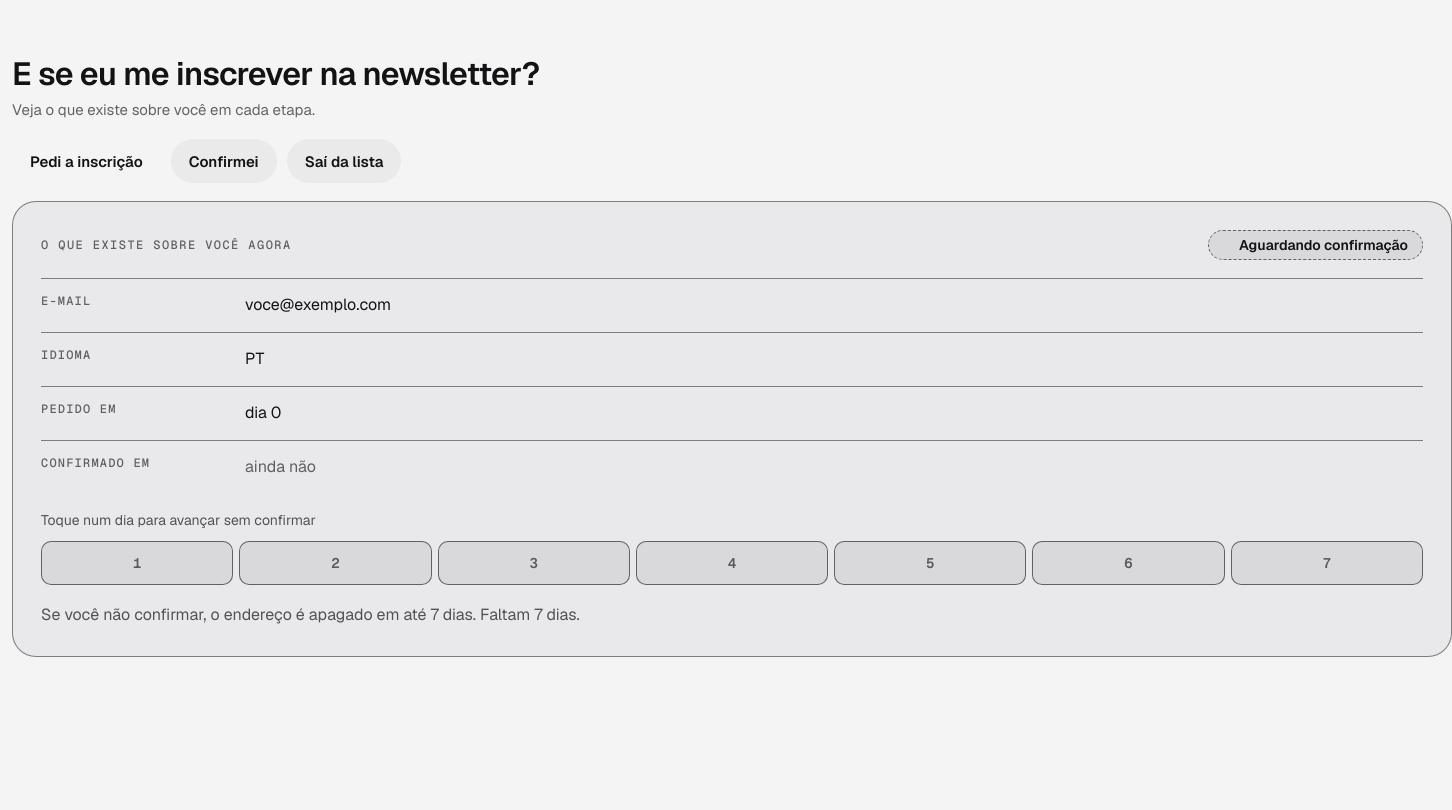
it: PrivacySimulation › lights the days up to the one tapped and strikes the panel through on day 7
Click the button "3" at (534, 563), box [438,541,630,585]
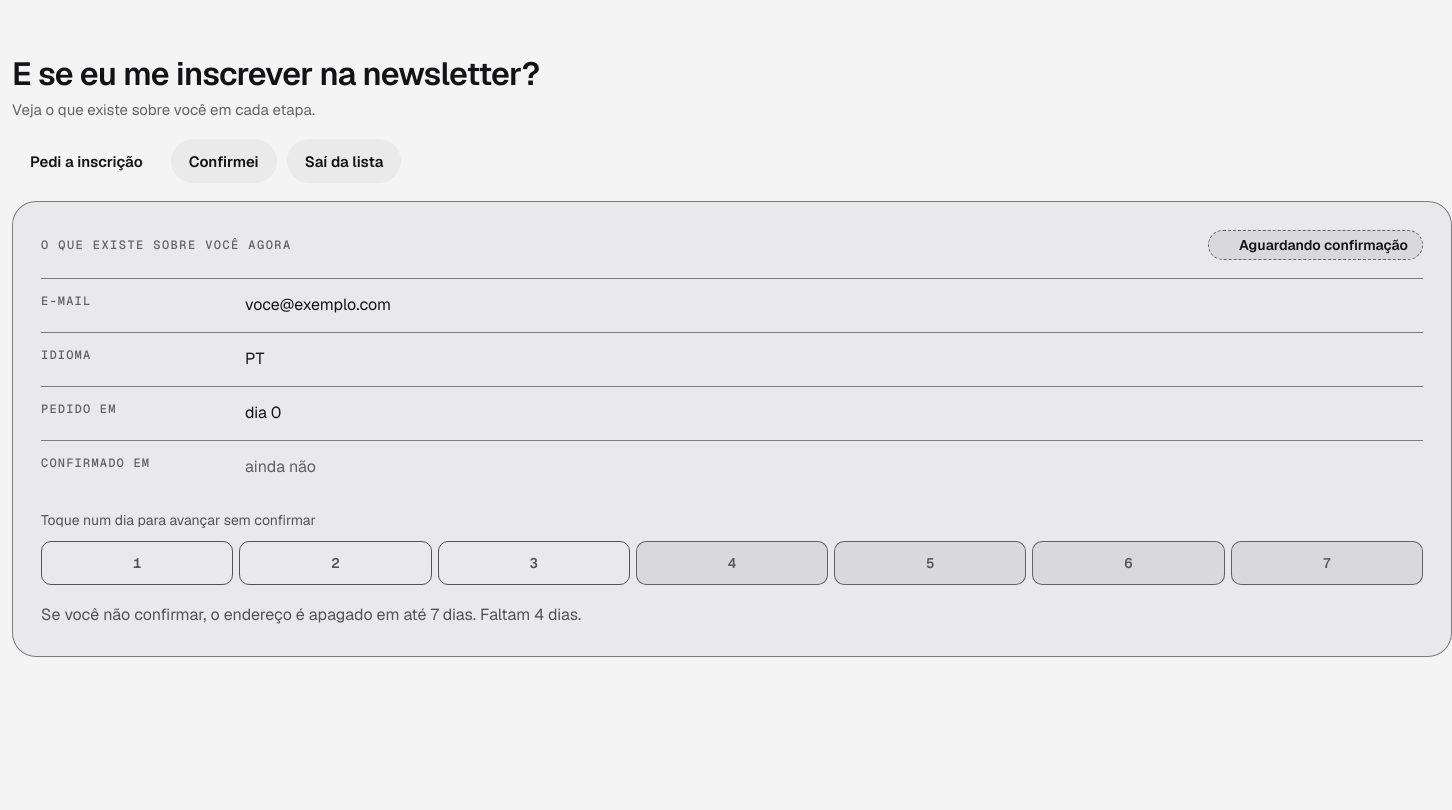
Check: the text "E-mail" is shown, box [41,293,91,309]
Check: the text "Faltam 4 dias." is shown, box [41,604,581,625]
Click the button "7" at (1327, 563), box [1231,541,1423,585]
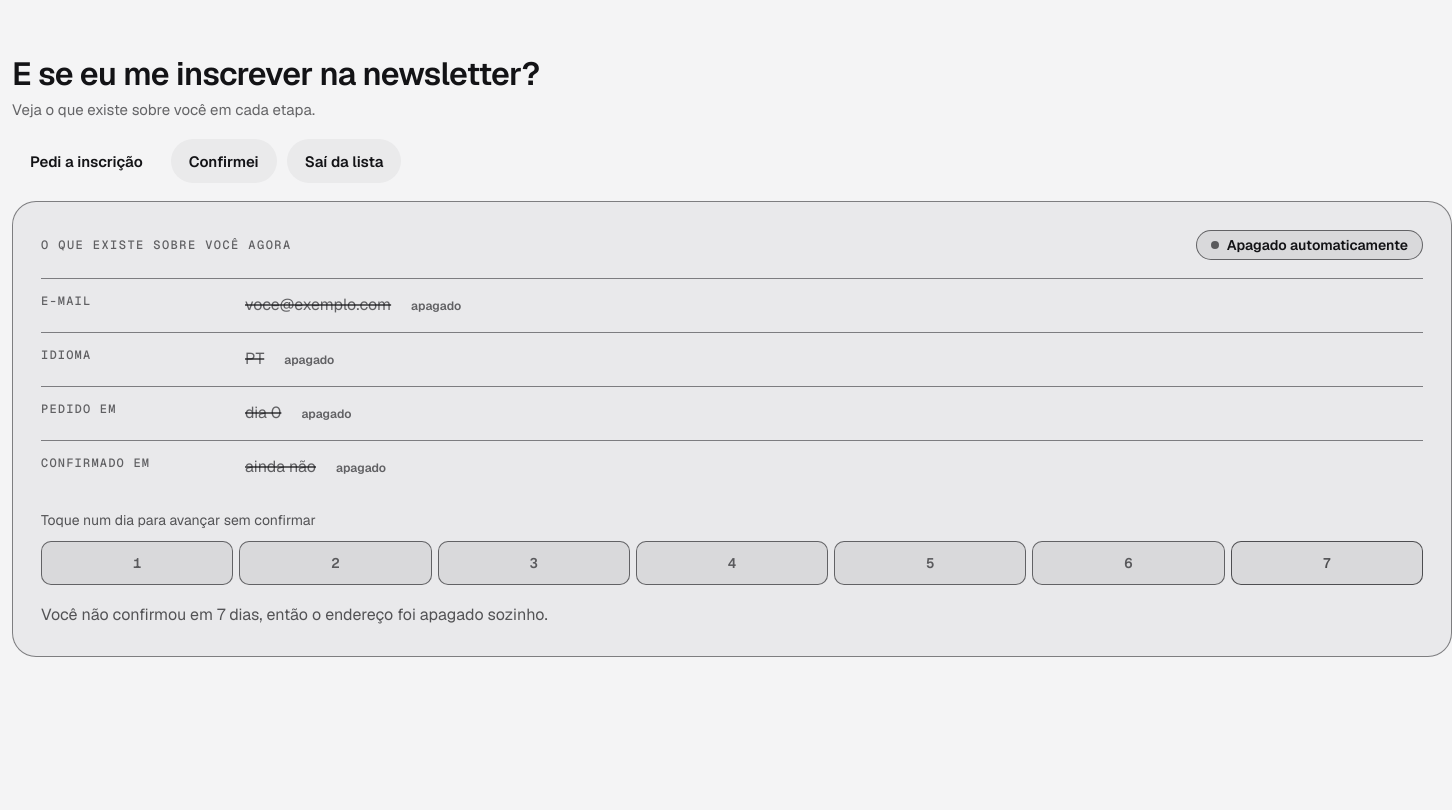
Check: the text "Apagado automaticamente" is shown, box [1196,230,1423,260]
Check: the text "apagado" is shown 4 times, box [411,298,461,314]; [284,352,334,368]; [301,406,352,422]; [336,460,386,476]
Click the button "7" at (1327, 563), box [1231,541,1423,585]
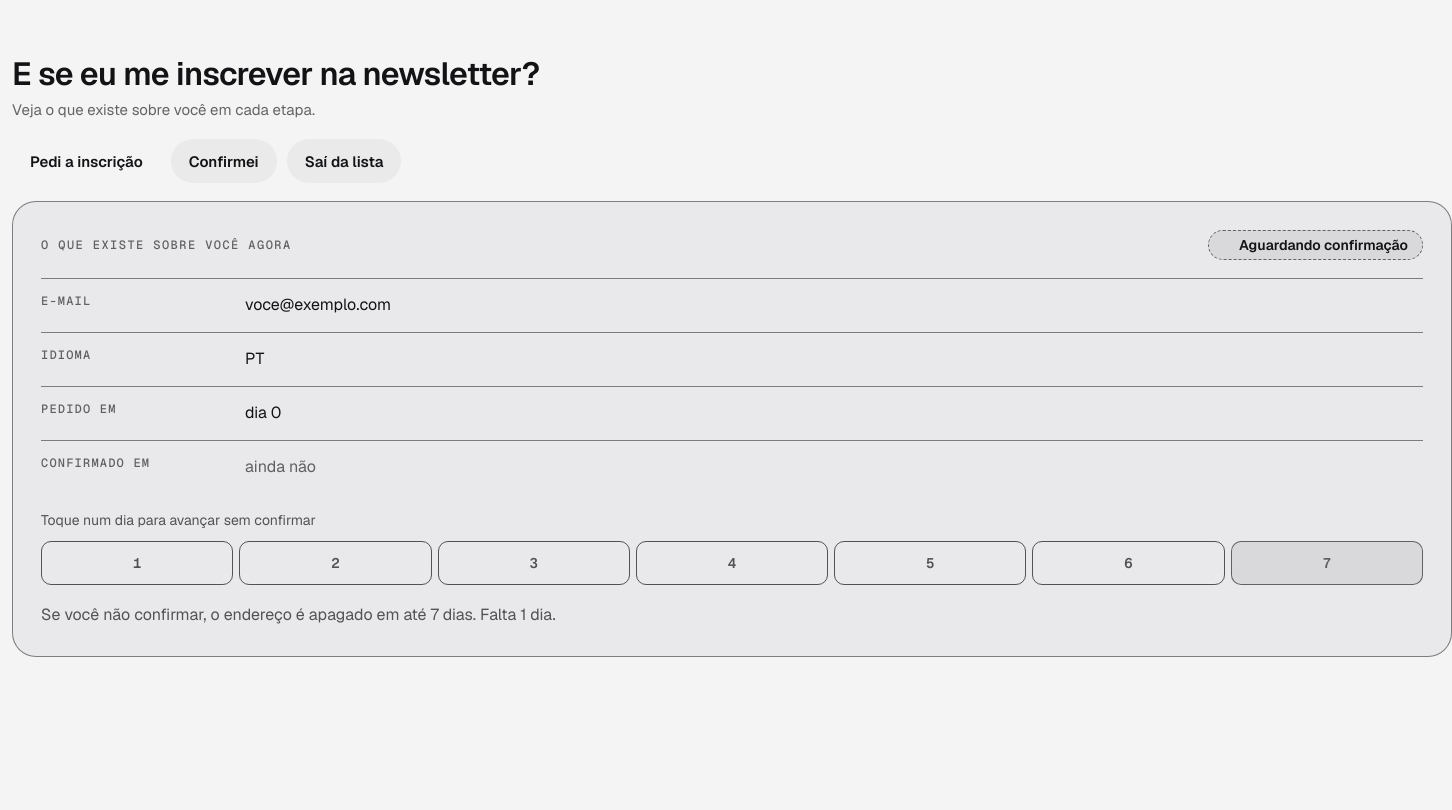
Check: the text "Falta 1 dia." is shown, box [41,604,556,625]
Click the button named "dia 1" at (137, 563), box [41,541,233,585]
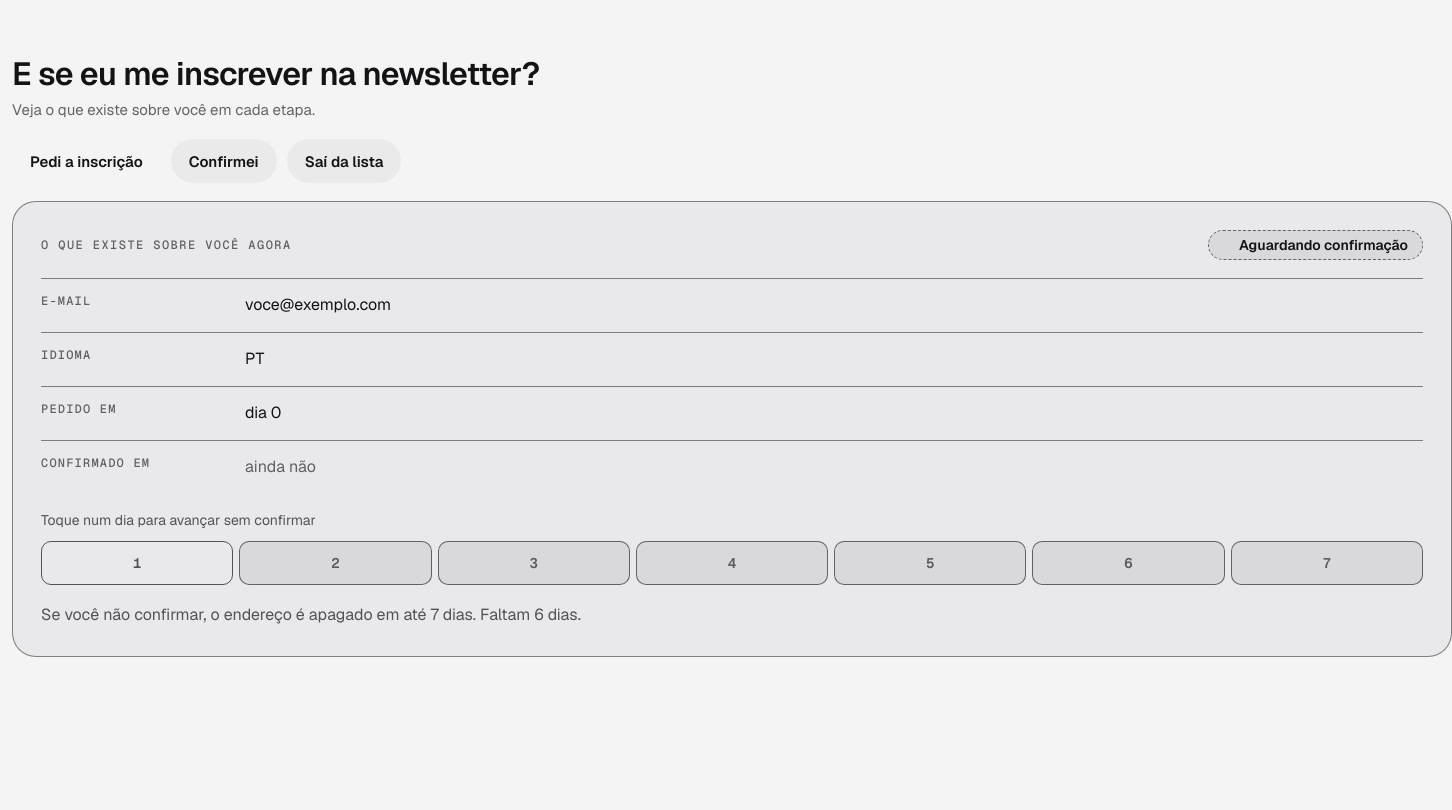
Click the button named "dia 1" at (137, 563), box [41,541,233,585]
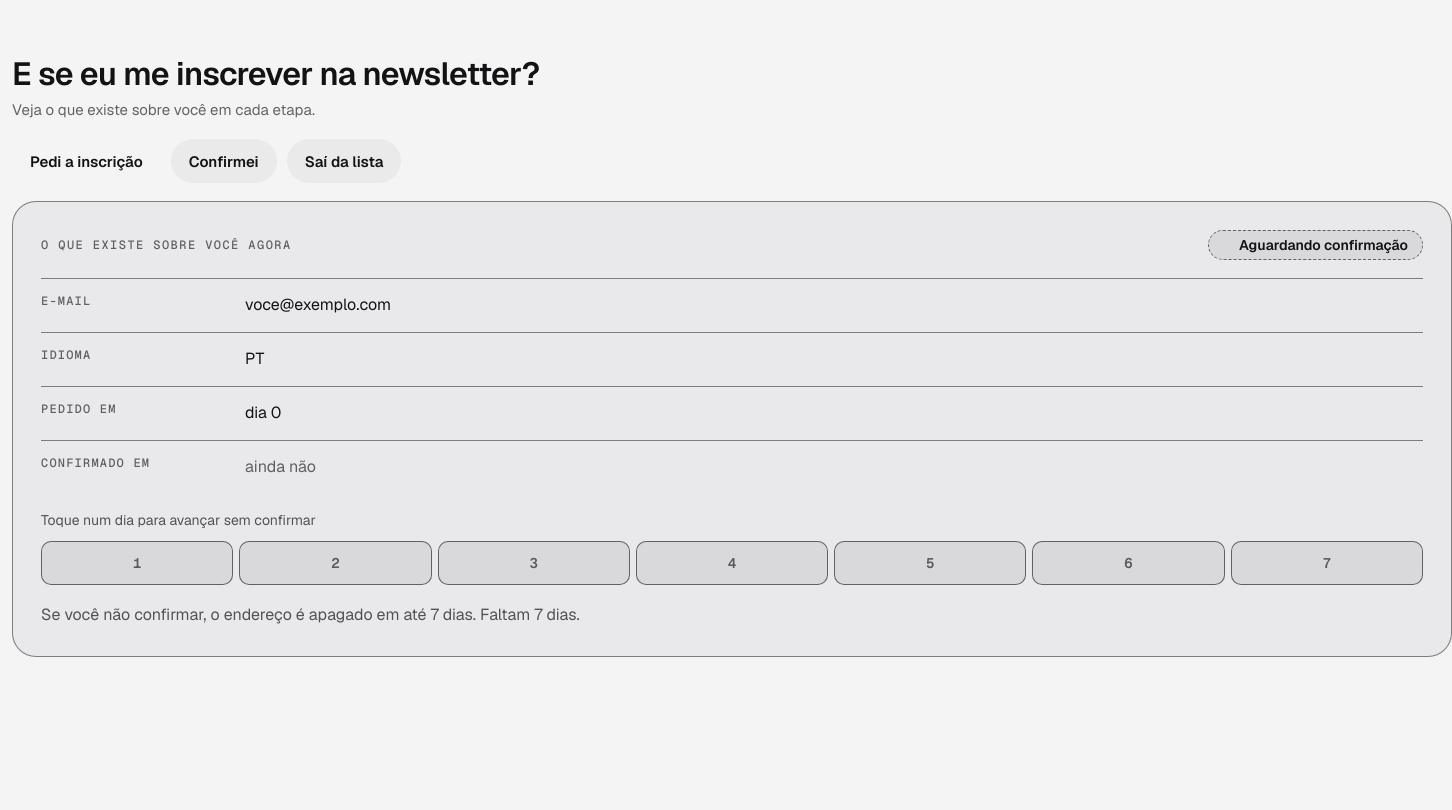
Check: the text "Faltam 7 dias." is shown, box [41,604,580,625]
